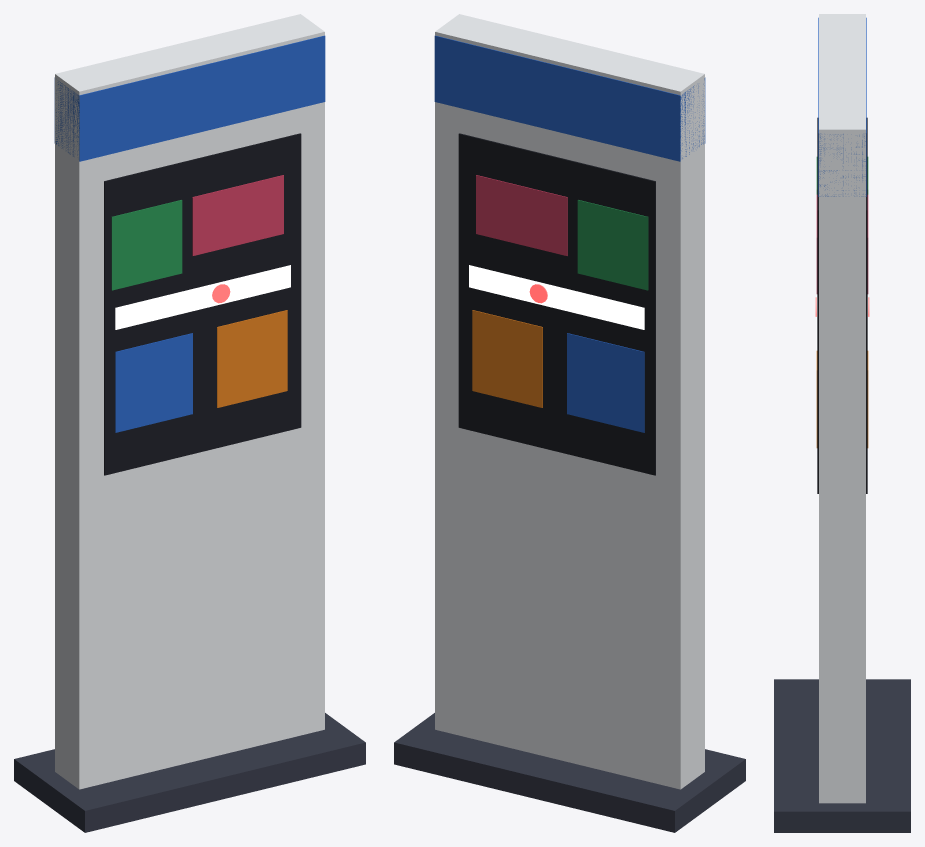
File: mal-031.glb
The picture shows the model from 3 angles, left to right: view 1: azimuth 30°, elevation 25°; view 2: azimuth 150°, elevation 25°; view 3: azimuth 270°, elevation 25°; orthographic projection. The views are drawn at different scales.
Visible parts, largest first — view 1: white, sign_panel, brand_electronics, dark_steel, brand_shoes, brand_fashion, brand_grocery, display_white; view 2: white, sign_panel, brand_electronics, dark_steel, brand_shoes, brand_fashion, brand_grocery, display_white; view 3: white, dark_steel, sign_panel, brand_electronics, brand_fashion, brand_shoes.
Boxes of the visible parts, bbox=[...] form: white: bbox=[55, 14, 324, 789]; sign_panel: bbox=[104, 133, 301, 475]; brand_electronics: bbox=[54, 35, 325, 432]; dark_steel: bbox=[14, 713, 365, 832]; brand_shoes: bbox=[217, 310, 287, 407]; brand_fashion: bbox=[192, 175, 283, 255]; brand_grocery: bbox=[111, 200, 182, 290]; display_white: bbox=[115, 265, 290, 329]; white: bbox=[435, 14, 704, 789]; sign_panel: bbox=[458, 133, 655, 475]; brand_electronics: bbox=[434, 35, 705, 432]; dark_steel: bbox=[394, 713, 745, 832]; brand_shoes: bbox=[472, 310, 542, 407]; brand_fashion: bbox=[476, 175, 567, 255]; brand_grocery: bbox=[577, 200, 648, 290]; display_white: bbox=[469, 265, 644, 329]; white: bbox=[819, 14, 865, 803]; dark_steel: bbox=[774, 679, 910, 832]; sign_panel: bbox=[817, 117, 867, 493]; brand_electronics: bbox=[818, 17, 866, 196]; brand_fashion: bbox=[816, 195, 868, 293]; brand_shoes: bbox=[816, 351, 868, 447].
Bounding box in the file's own units: 0.8 × 1.96 × 0.35.
